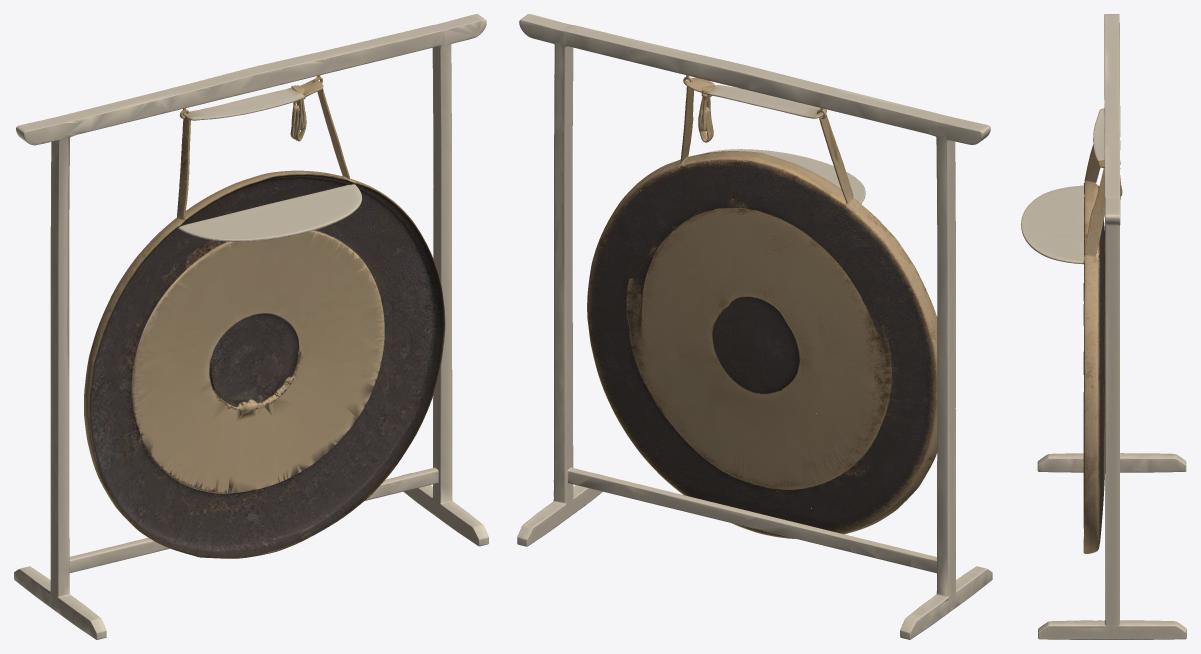
The model's file is tam-tam.glb.
3 renders of one model, left to right at view 1: azimuth 30°, elevation 25°; view 2: azimuth 150°, elevation 25°; view 3: azimuth 270°, elevation 25°, orthographic. The views are drawn at different scales.
Visible parts, largest first — view 1: tripo_node_a221a3b3-5cbf-4358-8451-de7e6e8b71bc; view 2: tripo_node_a221a3b3-5cbf-4358-8451-de7e6e8b71bc; view 3: tripo_node_a221a3b3-5cbf-4358-8451-de7e6e8b71bc.
Boxes of the visible parts, <box> form: tripo_node_a221a3b3-5cbf-4358-8451-de7e6e8b71bc: <box>14,14,488,639</box>; tripo_node_a221a3b3-5cbf-4358-8451-de7e6e8b71bc: <box>517,14,992,639</box>; tripo_node_a221a3b3-5cbf-4358-8451-de7e6e8b71bc: <box>1021,14,1186,639</box>.
Bounding box in the file's own units: 0.9681 × 0.9808 × 0.3346.
Materials: 1 (1 with a texture image).
